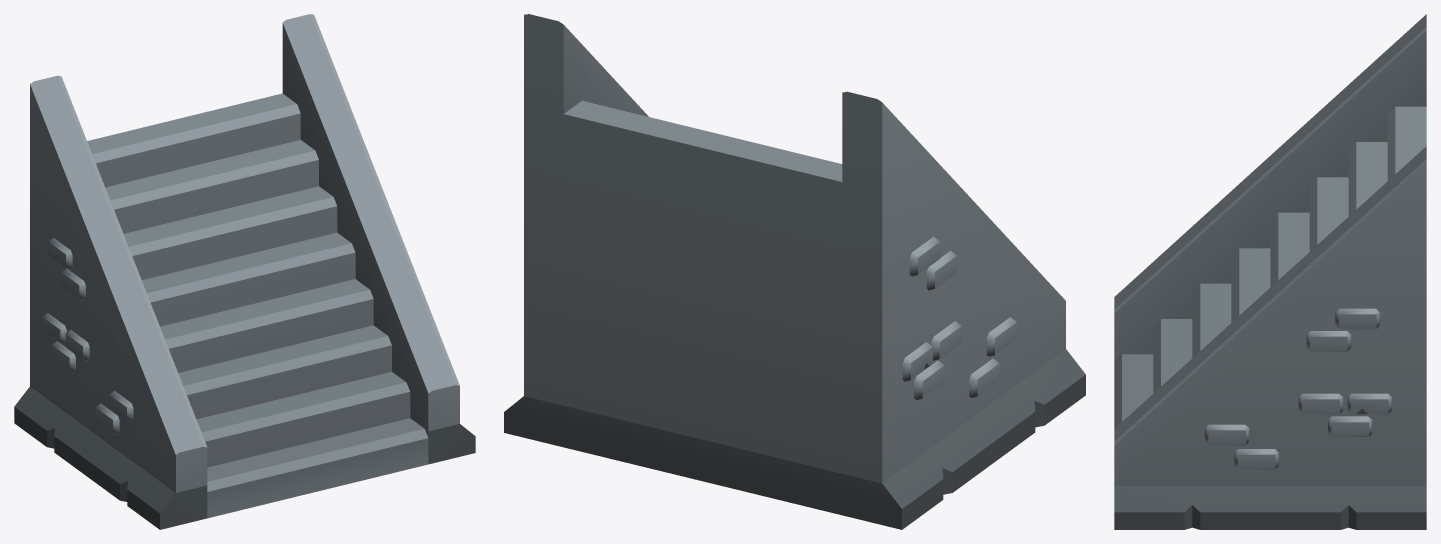
File: d_kaykit_escalier.glb
3 views of the same model, side by side, from view 1: azimuth 30°, elevation 25°; view 2: azimuth 150°, elevation 25°; view 3: azimuth 270°, elevation 25° (orthographic). The views are drawn at different scales.
Visible parts, largest first — view 1: d_kaykit_escalier; view 2: d_kaykit_escalier; view 3: d_kaykit_escalier.
Part boxes in pixels (x1=…): d_kaykit_escalier: x1=14, y1=14, x2=475, y2=529; d_kaykit_escalier: x1=504, y1=14, x2=1085, y2=529; d_kaykit_escalier: x1=1114, y1=14, x2=1426, y2=529.
Bounding box in the file's own units: 5 × 5.1 × 4.
Materials: 1 (1 with a texture image).
